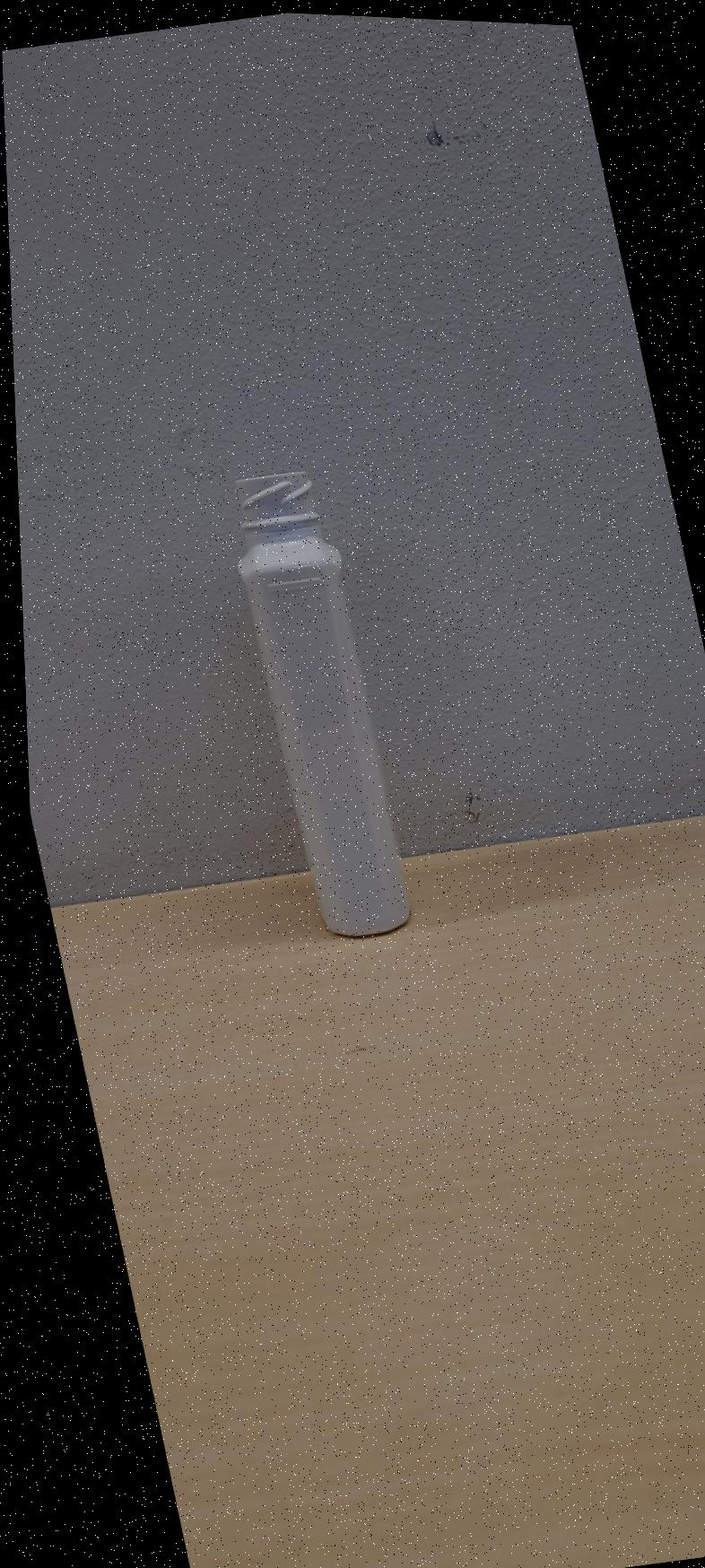bottle: (235, 472, 409, 936)
